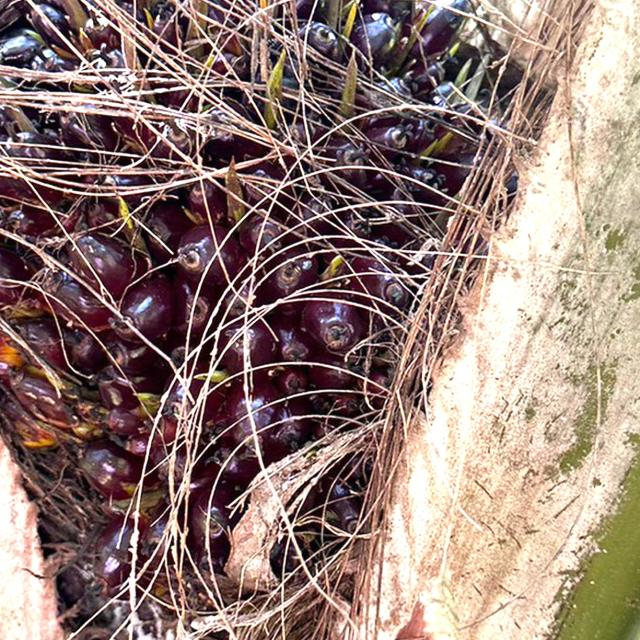almost: (5, 0, 528, 578)
